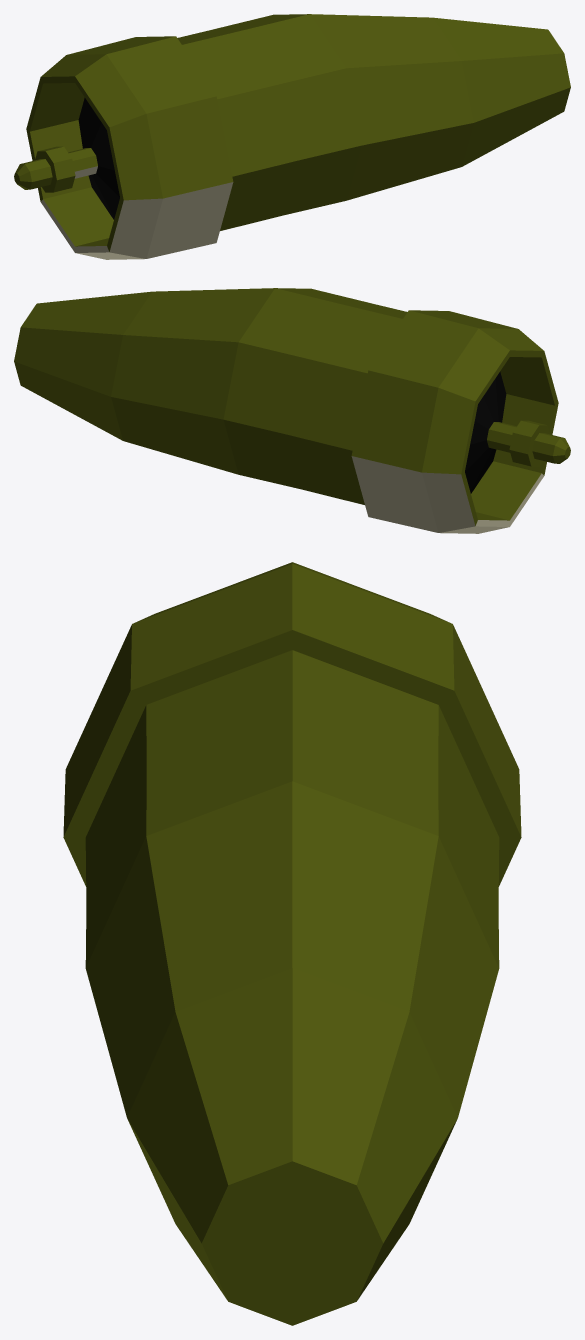
The model's file is B17_engine.glb.
3 renders of one model, top to bottom at view 1: azimuth 30°, elevation 25°; view 2: azimuth 150°, elevation 25°; view 3: azimuth 270°, elevation 25°, orthographic. The views are drawn at different scales.
Parts seen in each view (by area): view 1: Engine 4; view 2: Engine 4; view 3: Engine 4.
Part boxes in pixels (x1,y1,x2,y2): Engine 4: (14,14,570,259); Engine 4: (14,288,570,533); Engine 4: (63,562,521,1325).
Bounding box in the file's own units: 2.61 × 0.9732 × 0.9732.
